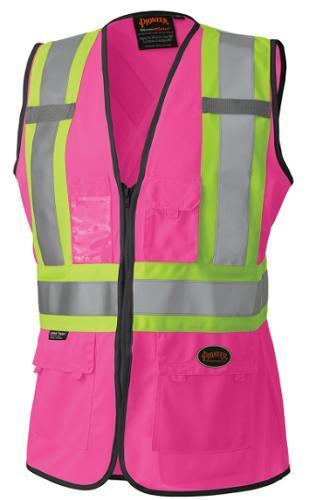vest: (15, 13, 295, 496)
